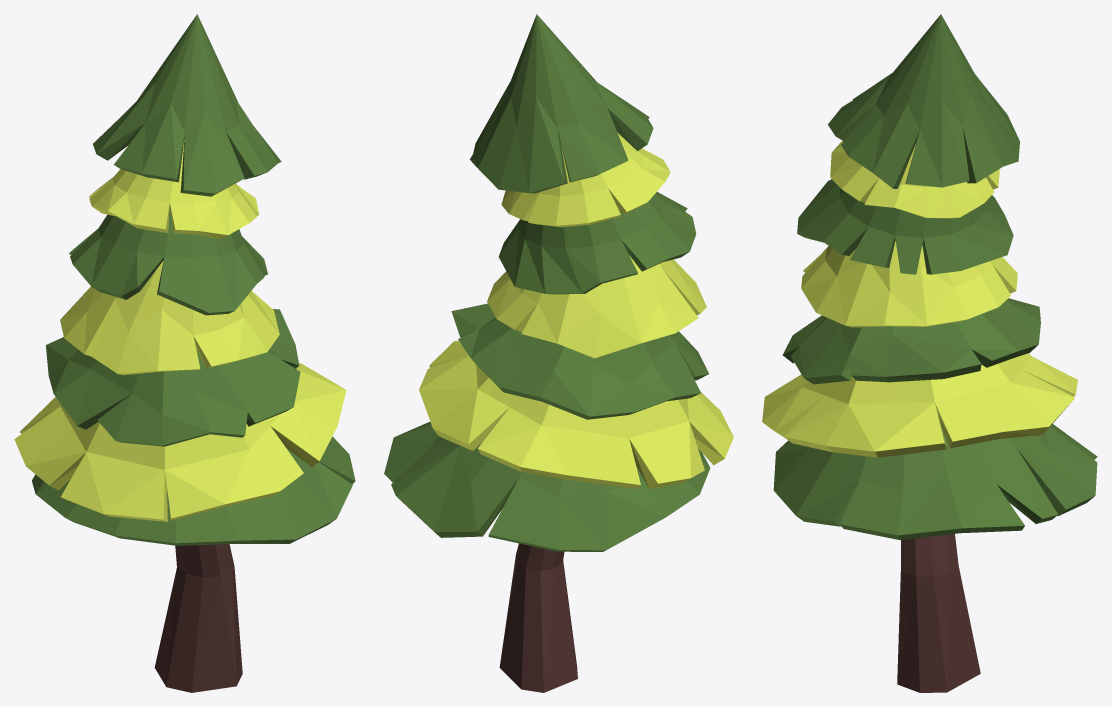
The model's file is Conifer Tree_3.fbx.
3 views of the same model, side by side, from view 1: azimuth 30°, elevation 25°; view 2: azimuth 150°, elevation 25°; view 3: azimuth 270°, elevation 25° (orthographic).
Parts seen in each view (by area): view 1: Conifer Tree_3; view 2: Conifer Tree_3; view 3: Conifer Tree_3.
Boxes of the visible parts, x1,y1,x2,y2 form: Conifer Tree_3: (14,14,355,692); Conifer Tree_3: (384,14,733,692); Conifer Tree_3: (762,14,1097,692).
Size of the model in its own units: 2.63 by 5.62 by 2.58.
